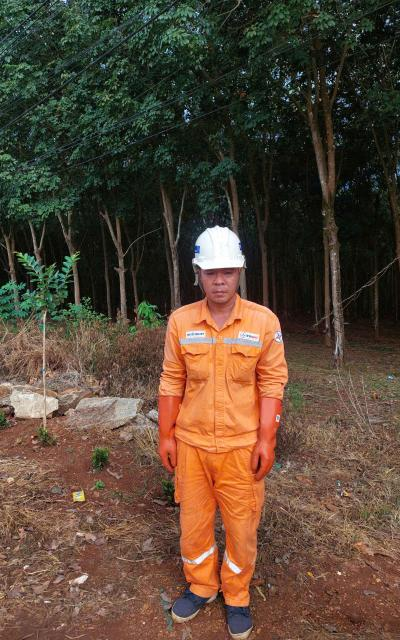gloves: (143, 384, 192, 479), (244, 387, 285, 475)
helmet: (181, 225, 252, 281)
shoes: (167, 552, 215, 628), (216, 582, 251, 640)
